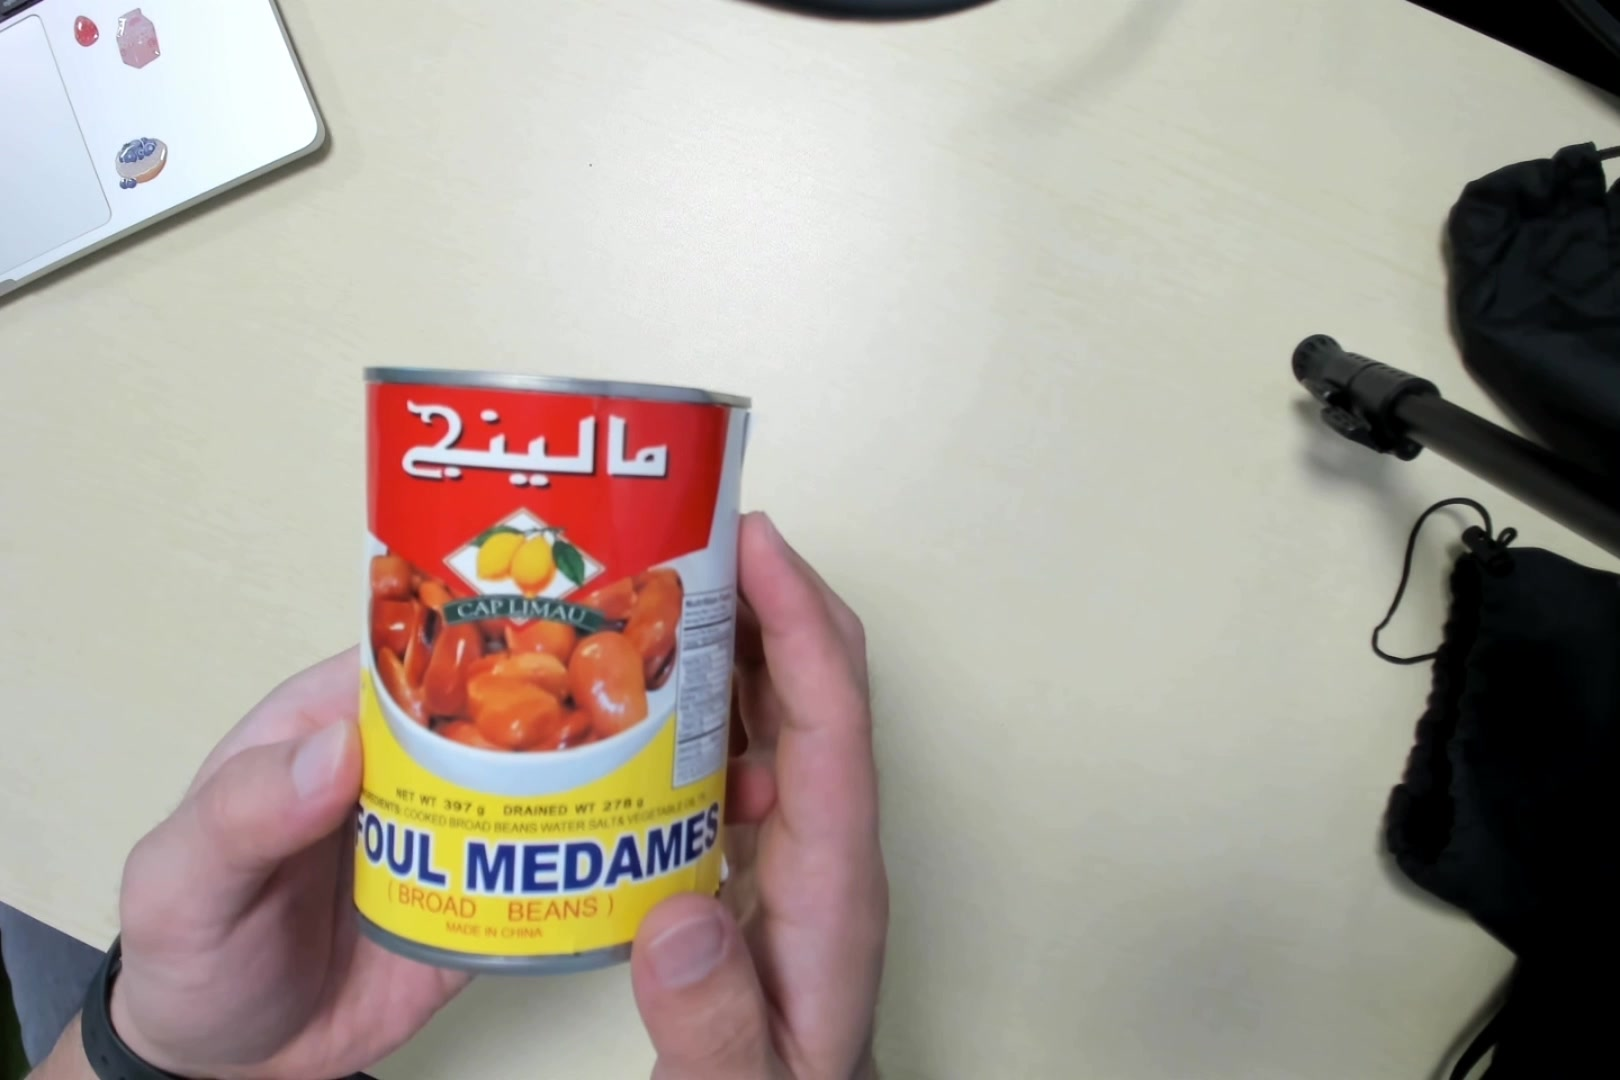OtherCannedBeansPeasPeanuts_400-499g_Halal_NonHealthy: (341, 352, 730, 952)
